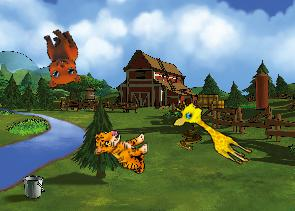bear: (29, 24, 89, 93)
giraffe: (167, 96, 260, 168)
tiger: (94, 128, 149, 174)
